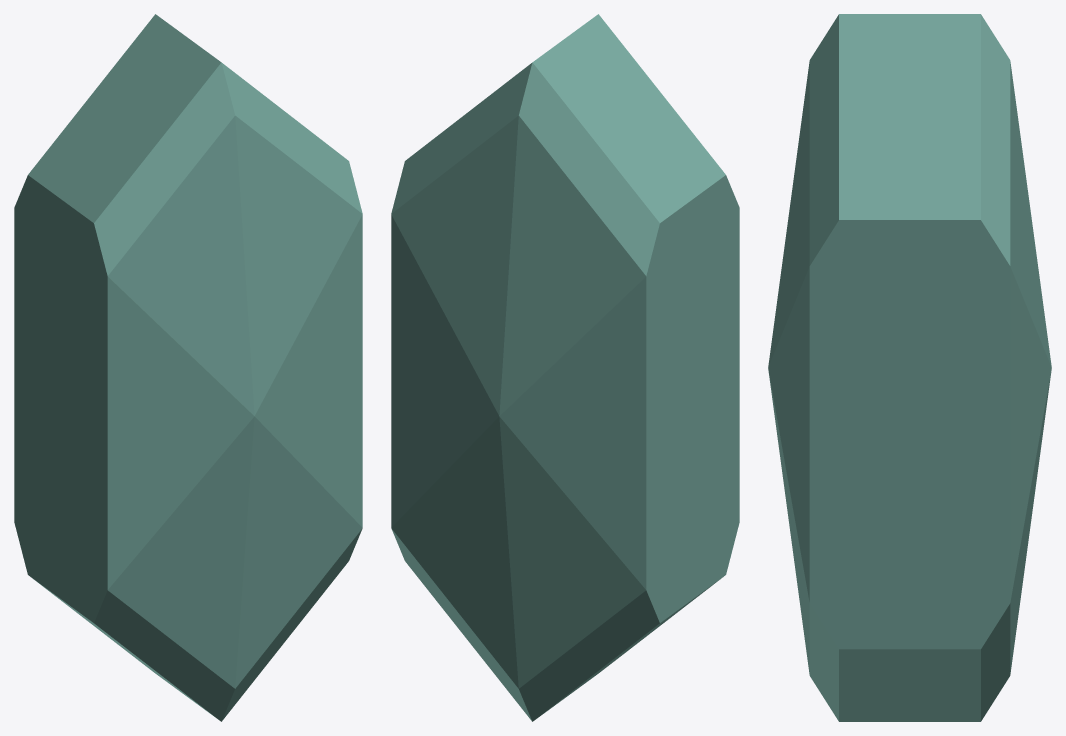
3 views of the same model, side by side, from view 1: azimuth 30°, elevation 25°; view 2: azimuth 150°, elevation 25°; view 3: azimuth 270°, elevation 25° (orthographic). The views are drawn at different scales.
Parts seen in each view (by area): view 1: object1.034; view 2: object1.034; view 3: object1.034.
Boxes of the visible parts, x1=… form: object1.034: x1=14, y1=14, x2=362, y2=721; object1.034: x1=391, y1=14, x2=739, y2=721; object1.034: x1=768, y1=14, x2=1051, y2=721.
Size of the model in its own units: 0.1672 by 0.413 by 0.15.
